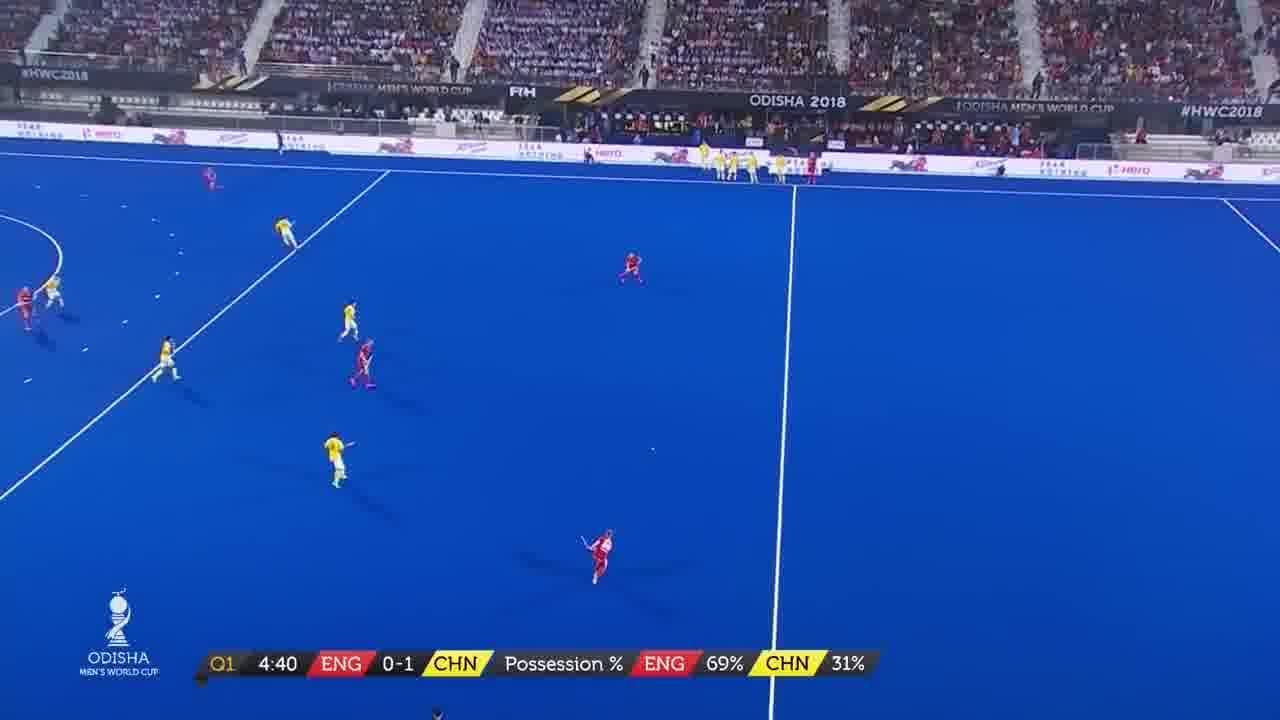ball: (648, 446, 658, 454)
